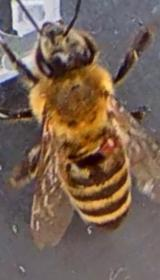varroa_mite: (88, 131, 125, 158)
